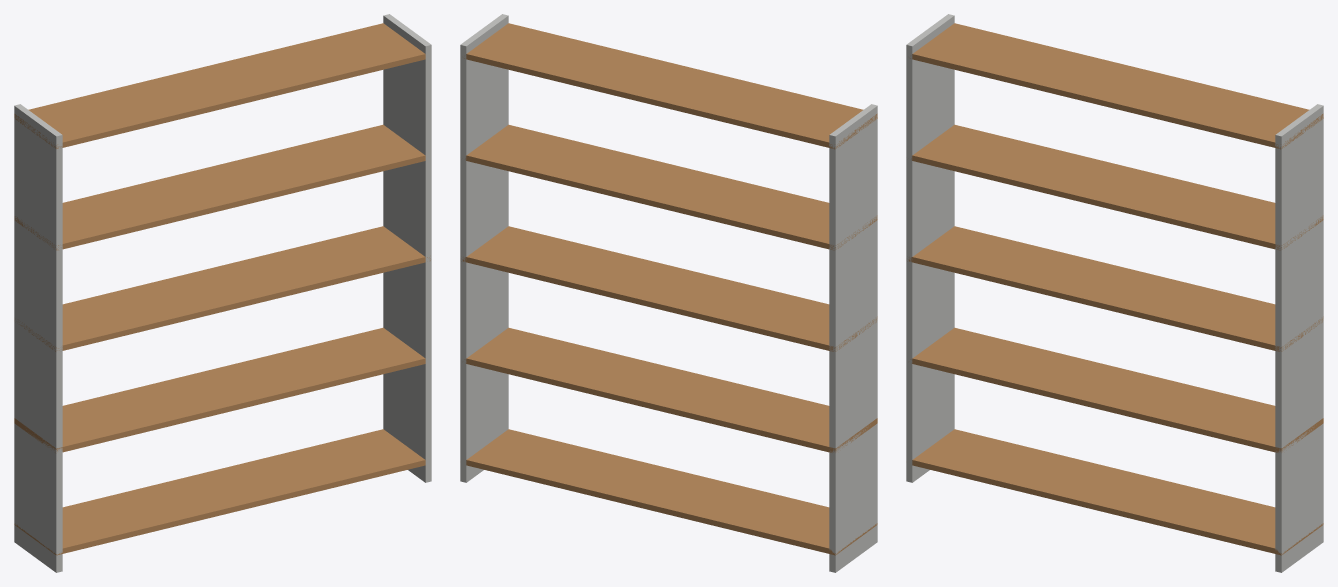
Rendered from prateleiras_dml.obj.
The picture shows the model from 3 angles, left to right: view 1: azimuth 30°, elevation 25°; view 2: azimuth 150°, elevation 25°; view 3: azimuth 330°, elevation 25°; orthographic projection.
Visible parts, largest first — view 1: prateleiras_dml; view 2: prateleiras_dml; view 3: prateleiras_dml.
Part boxes in pixels (box(x1,y1,x2,y2)): prateleiras_dml: box(14, 14, 431, 572); prateleiras_dml: box(460, 14, 877, 572); prateleiras_dml: box(906, 14, 1323, 572).
Size of the model in its own units: 180 by 200 by 35.
